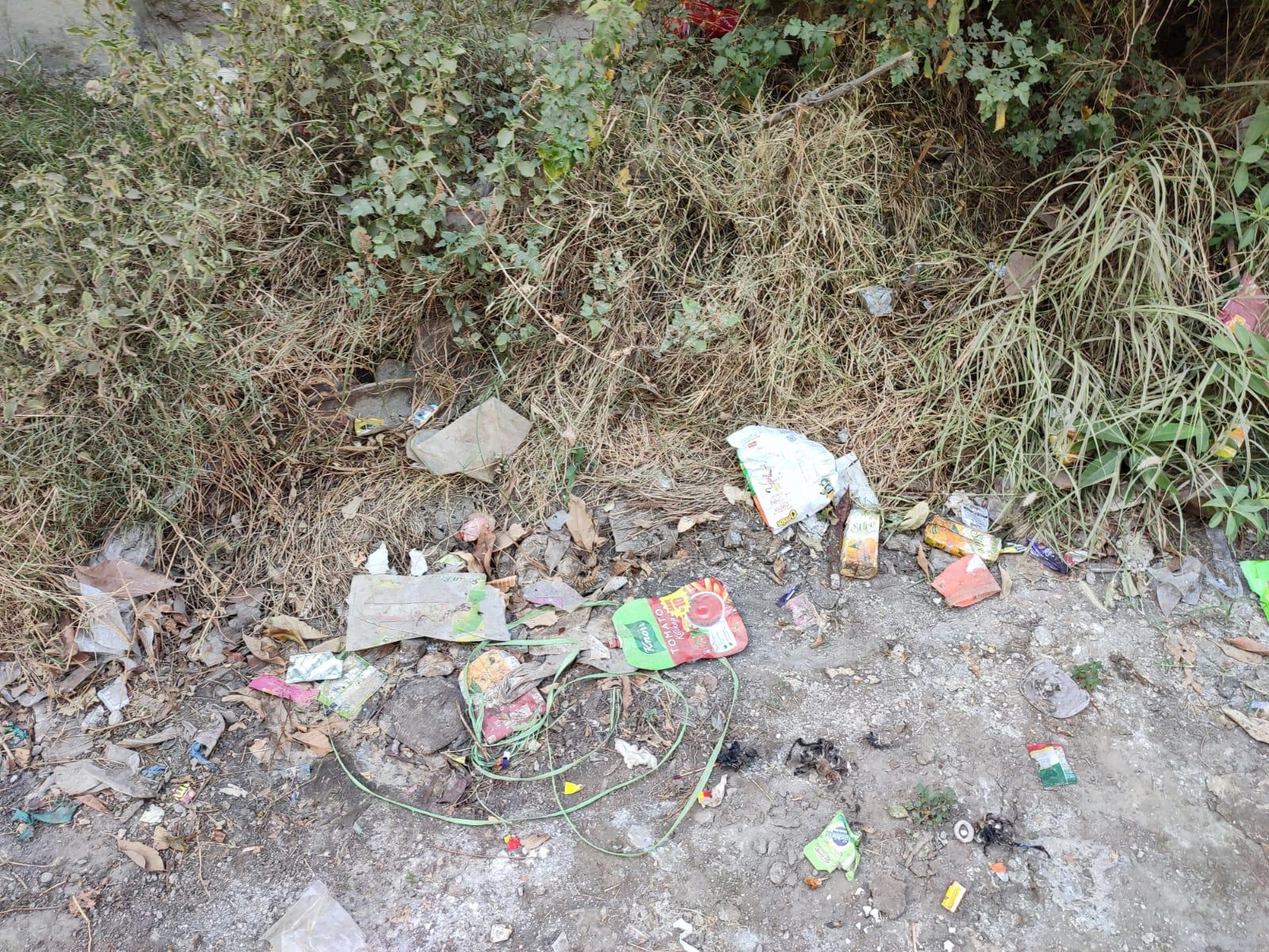garbage: (300, 409, 1127, 764)
